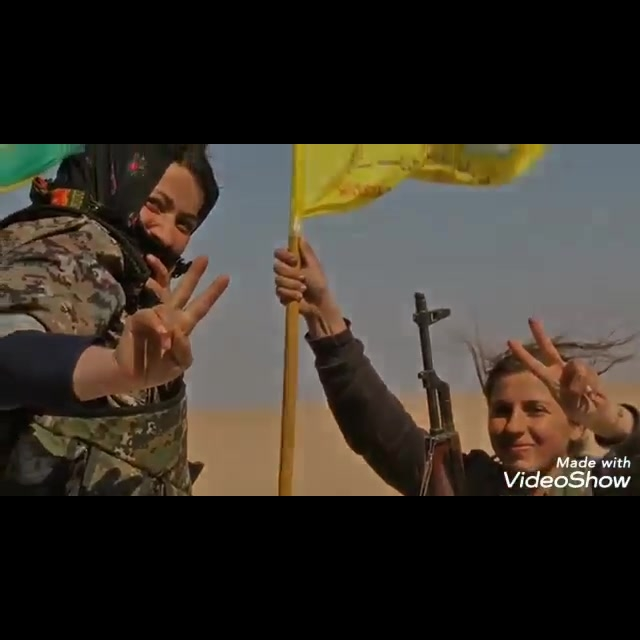ZI: (94, 230, 246, 414), (492, 305, 622, 437)
